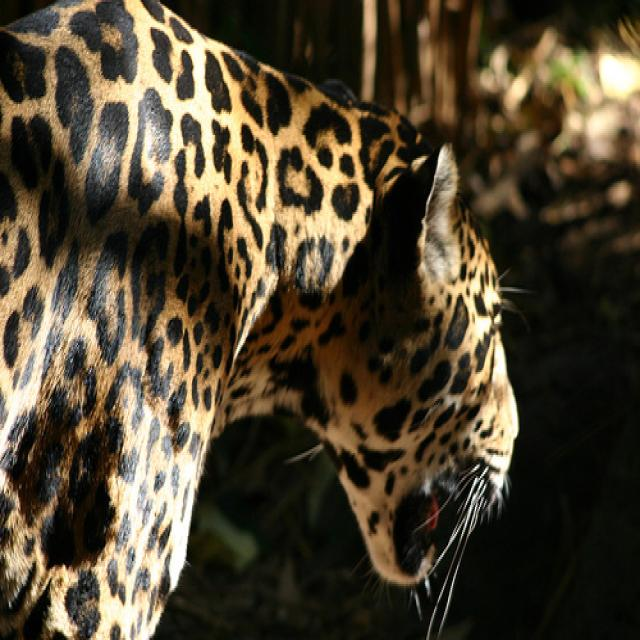Leopard: (0, 0, 518, 636)
